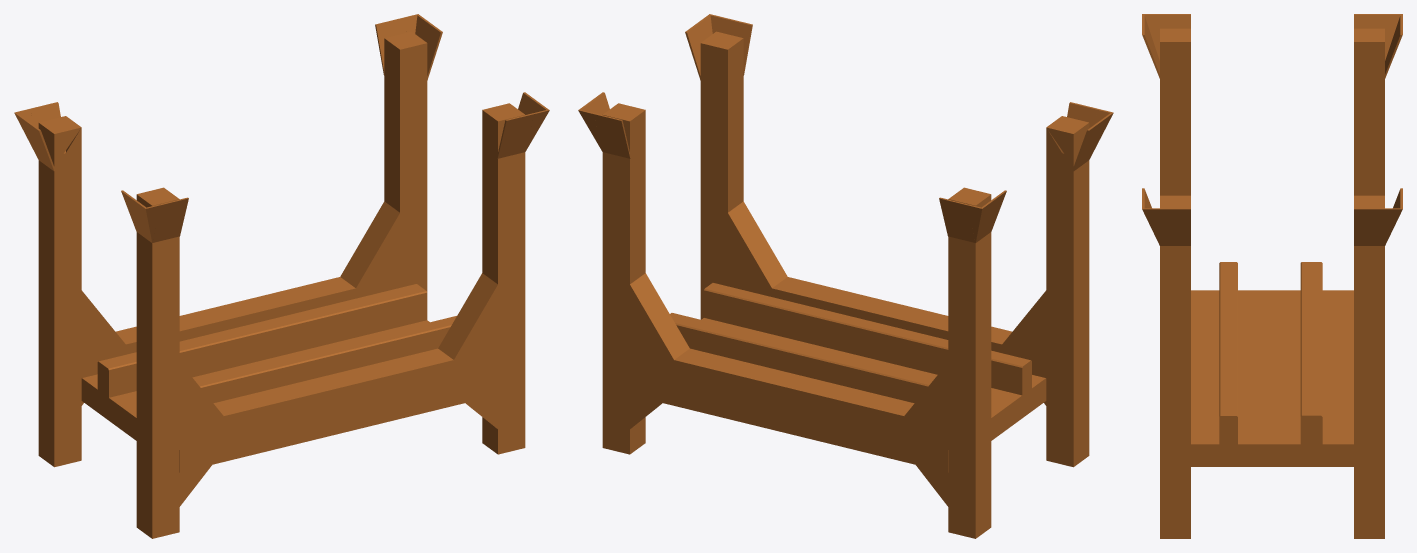
The model's file is Bolzengestell153D.dae.
The picture shows the model from 3 angles, left to right: view 1: azimuth 30°, elevation 25°; view 2: azimuth 150°, elevation 25°; view 3: azimuth 270°, elevation 25°; orthographic projection.
Parts seen in each view (by area): view 1: node0; view 2: node0; view 3: node0.
Part boxes in pixels (x1=…): node0: x1=14, y1=14, x2=549, y2=538; node0: x1=578, y1=14, x2=1113, y2=538; node0: x1=1142, y1=14, x2=1402, y2=538.
Bounding box in the file's own units: 1.85 × 1.04 × 1.49.
